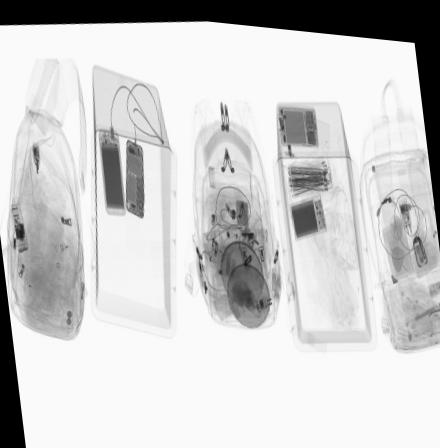Powerbank: (97, 126, 127, 216), (289, 187, 328, 237)
